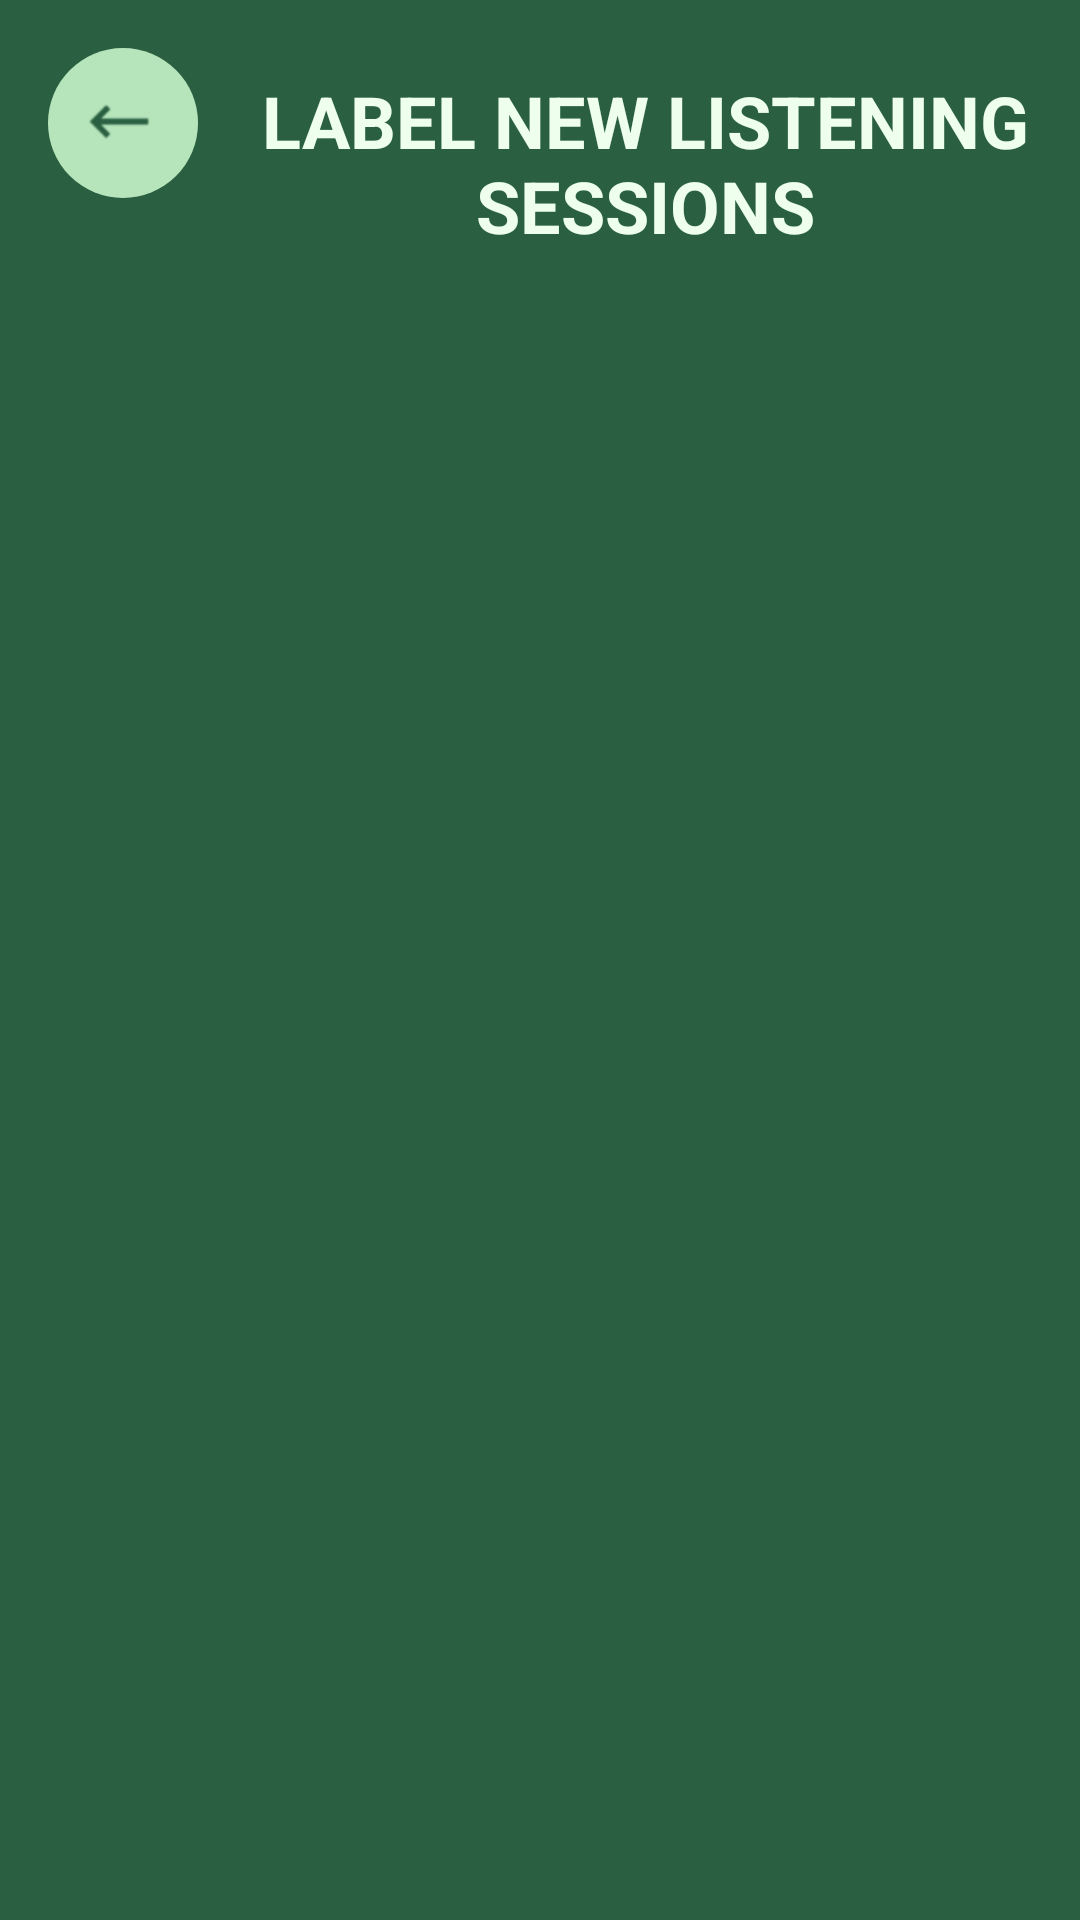

Where to tap for icons on this 1080 × 1920 app screen, as (x,y):
Back: (123,123)
